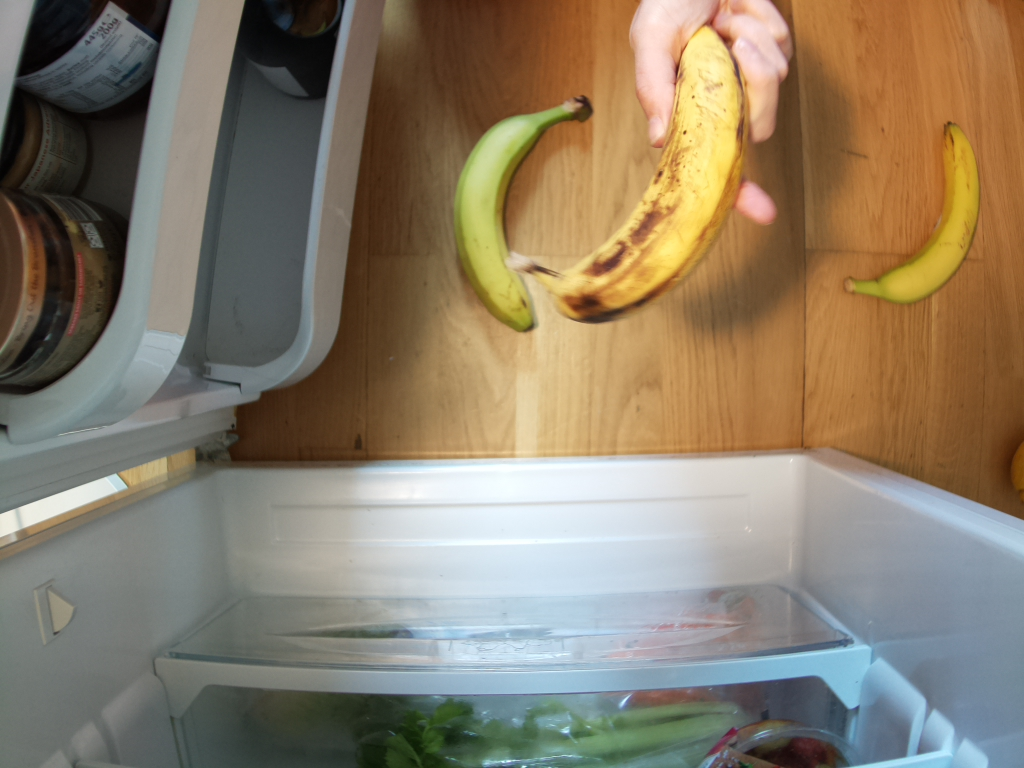banana-overripe: (505, 14, 742, 319)
banana-unripe: (452, 94, 601, 335), (842, 124, 980, 308)
